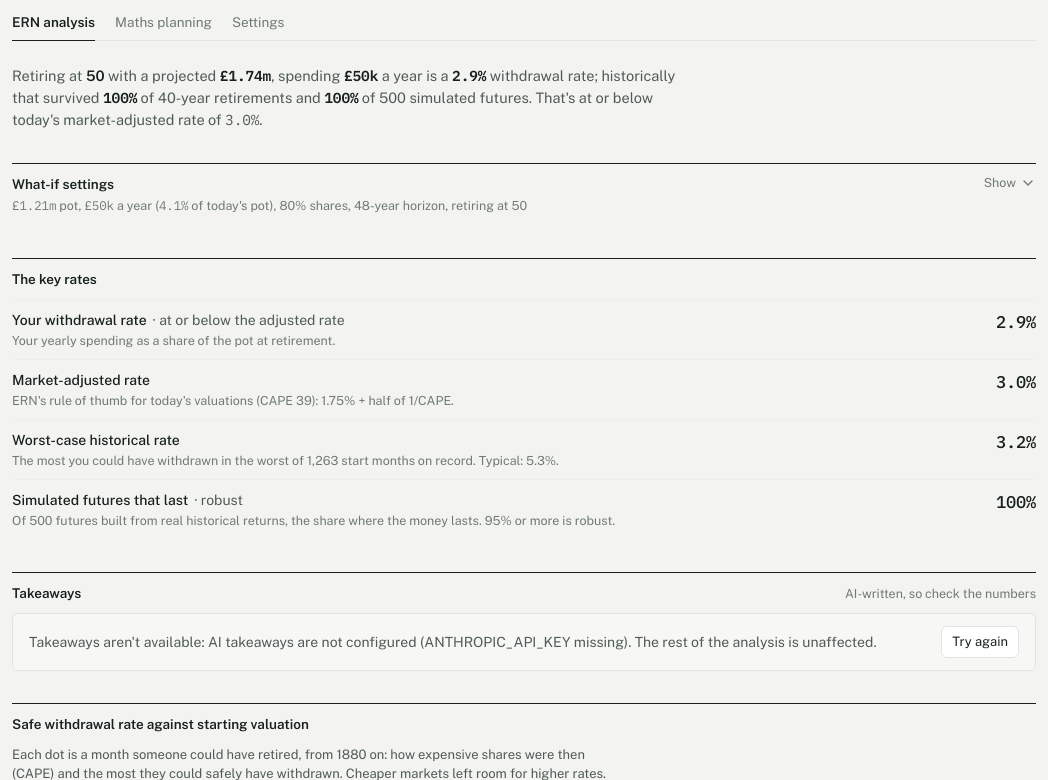
it: FIRE page › says clearly when AI takeaways are not configured, and offers a retry
This screenshot has width=1048, height=780.
Expected: the text "Takeaways aren't available: AI takeaways are not configured" is shown, 29,632 -> 876,652
Click the button "Try again" at x=980, y=642, box 941,626 -> 1019,658
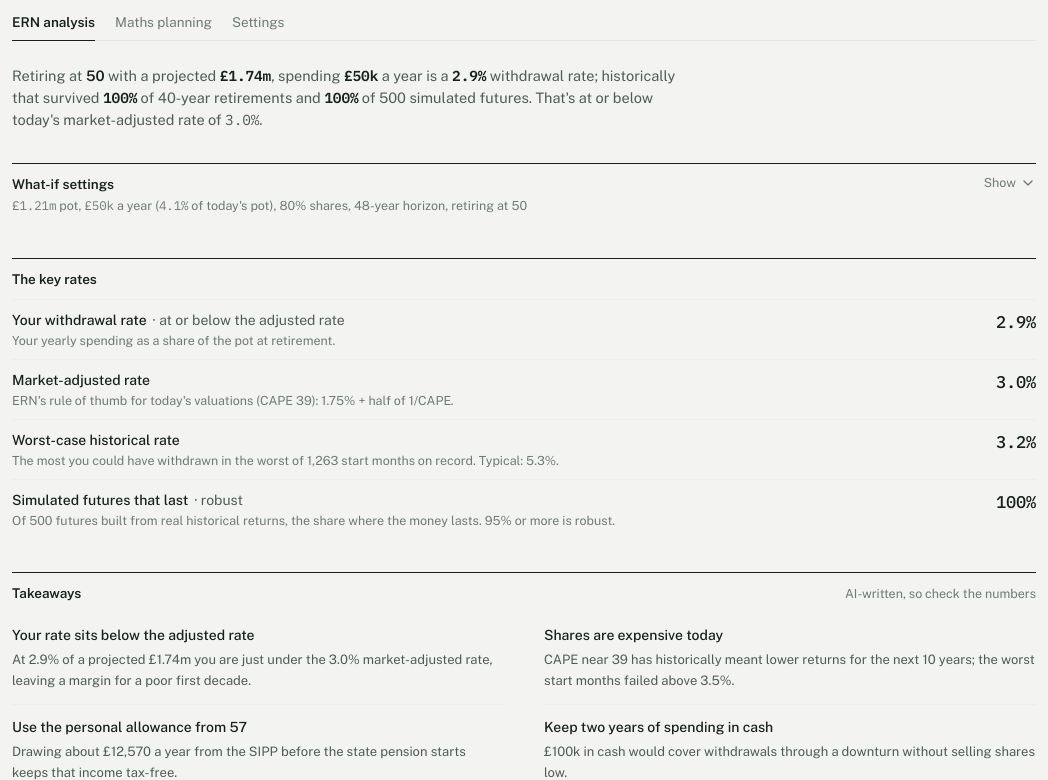
Expected: the text "Shares are expensive today" is shown, 544,627 -> 723,643
